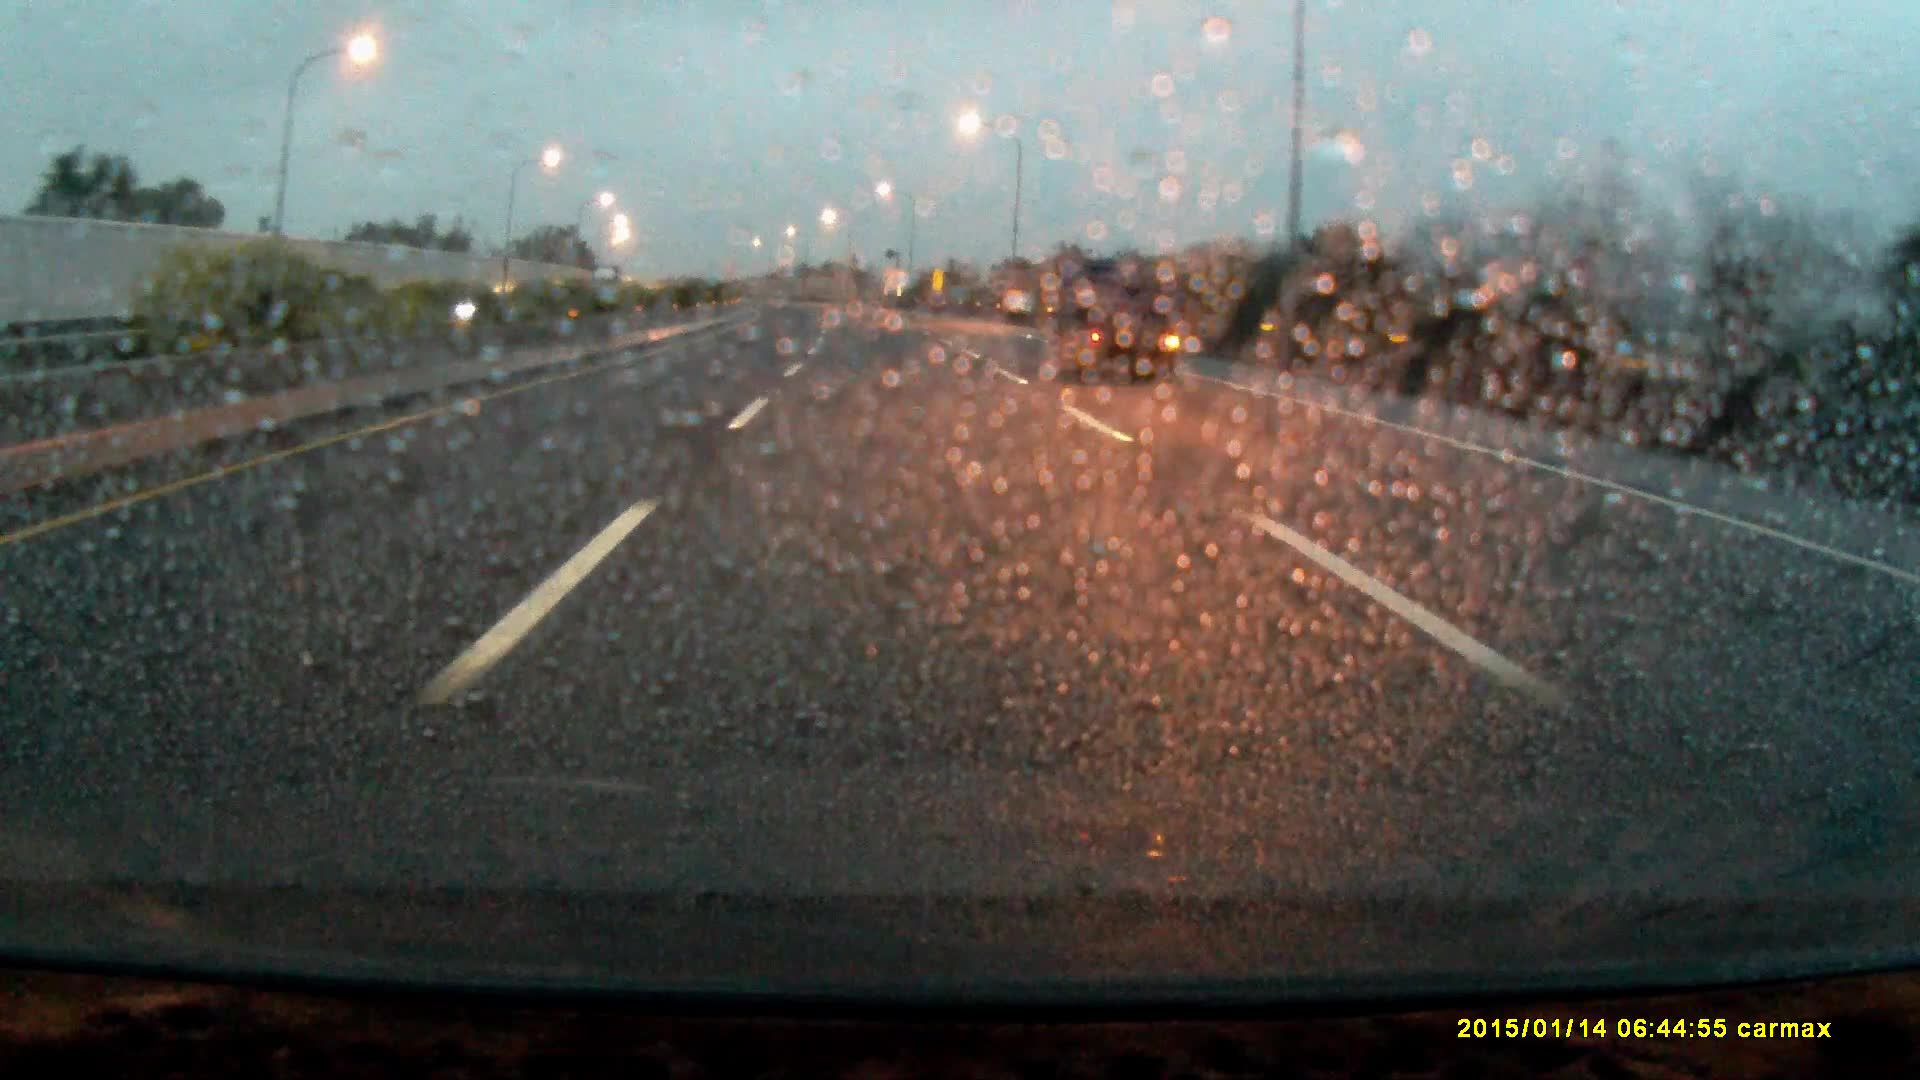vehicle: (1050, 258, 1183, 389), (589, 266, 621, 302)
